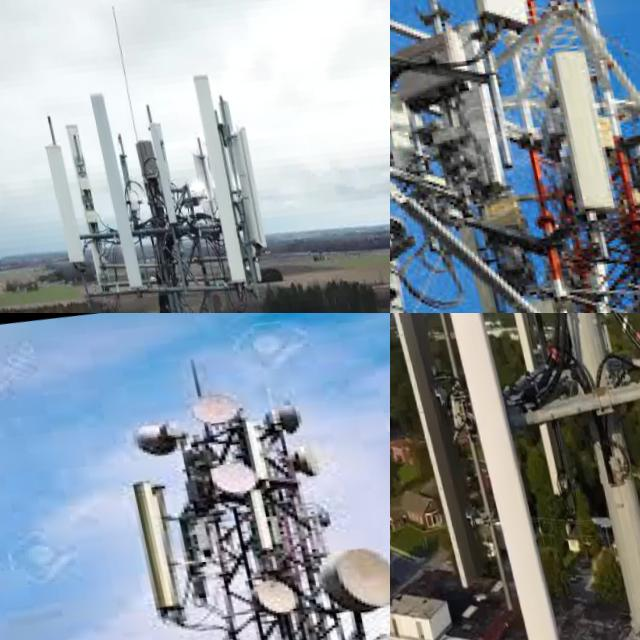GSM Antenna: (413, 313, 564, 640), (390, 313, 487, 597), (534, 37, 627, 215), (183, 67, 255, 289), (492, 313, 571, 495), (85, 89, 145, 298), (118, 474, 198, 624), (538, 313, 613, 444), (436, 81, 510, 194), (220, 118, 272, 250), (59, 115, 105, 254), (38, 134, 85, 270), (144, 115, 181, 224), (241, 481, 280, 564)
Microwave Antenna: (311, 537, 390, 615), (123, 412, 193, 460), (280, 431, 336, 480), (244, 574, 304, 619), (205, 453, 262, 497), (193, 386, 249, 427), (265, 392, 319, 434)
